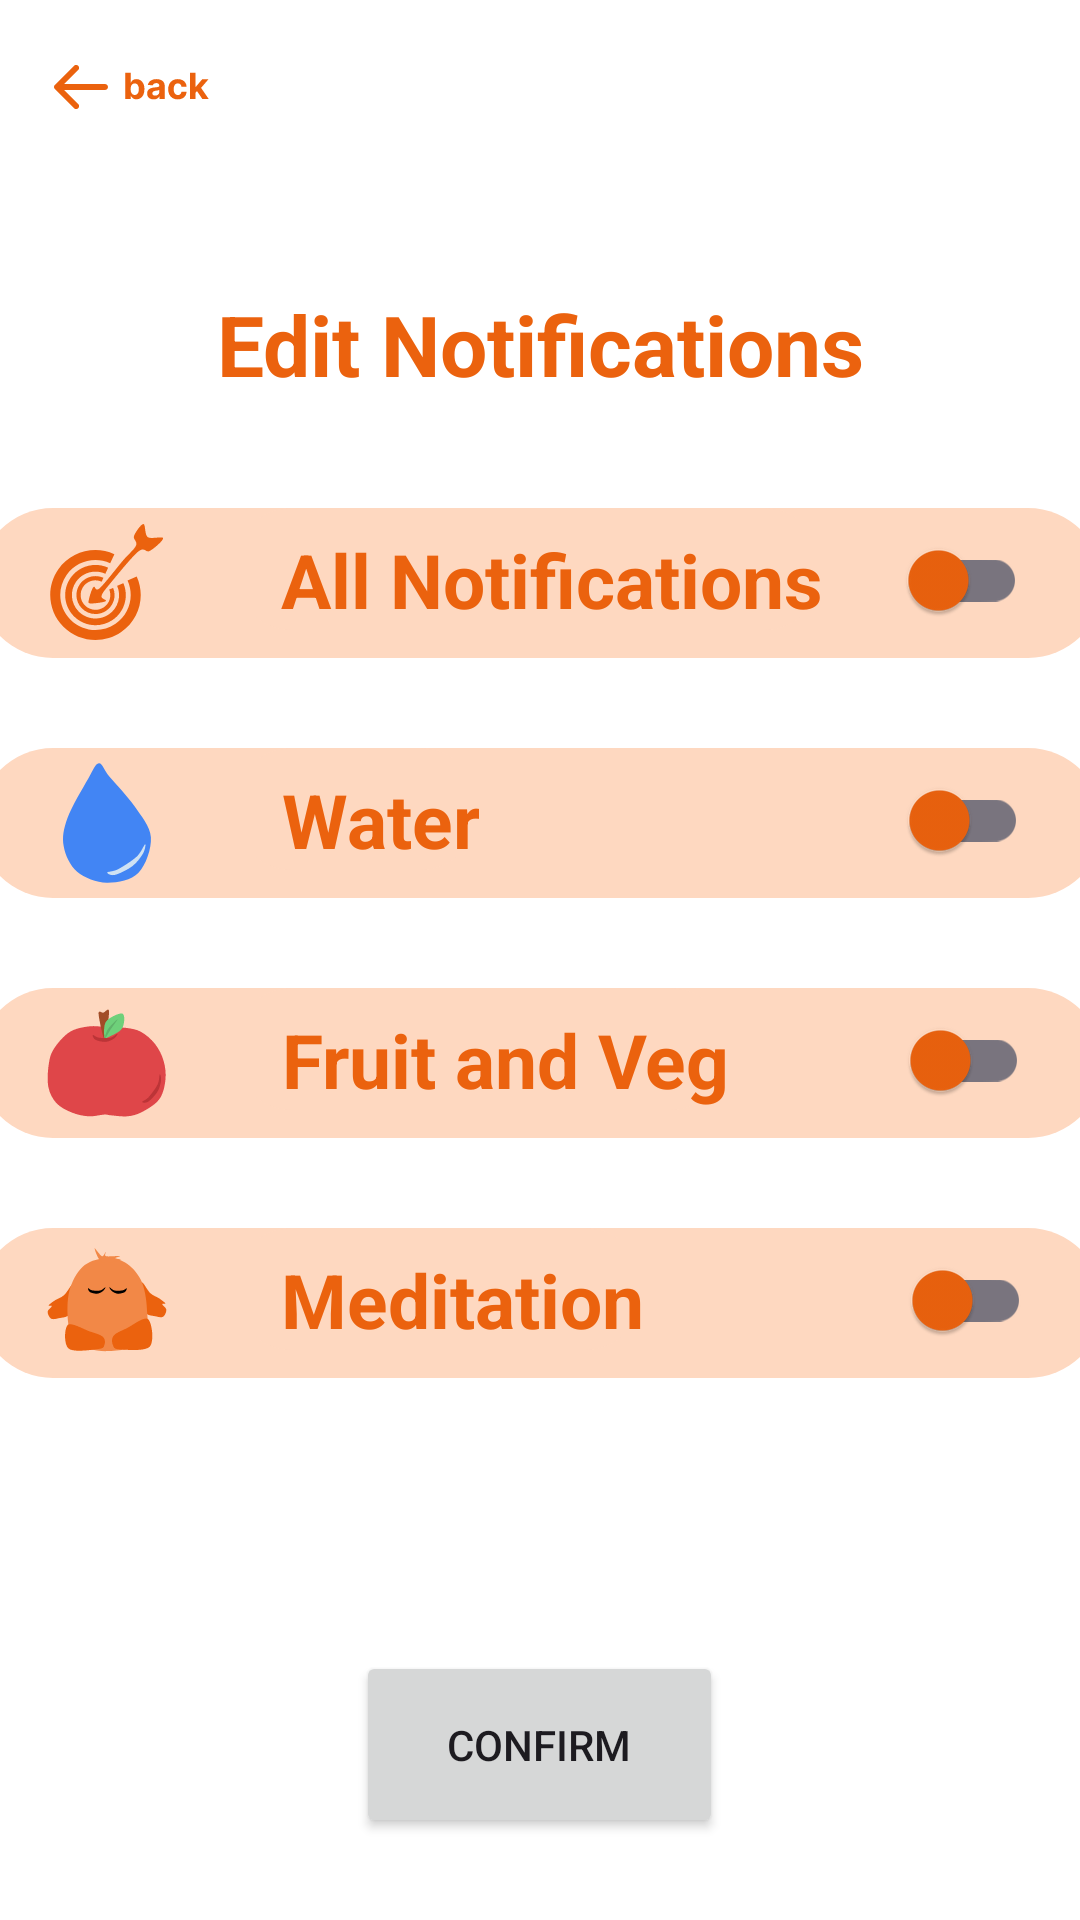

Locate icon controls on the screen. Image size 1080x1920, boxes as (x1, y1, x2, y2).
apple wrapper: (8, 988, 233, 1138)
target wrapper: (8, 508, 233, 658)
